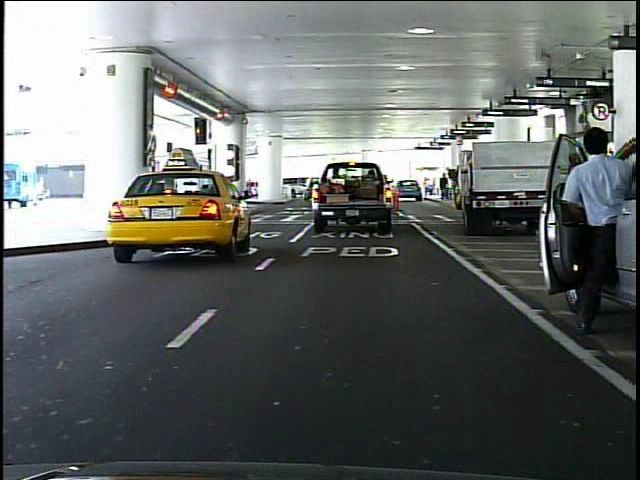person: (558, 121, 630, 336), (201, 167, 220, 213)
